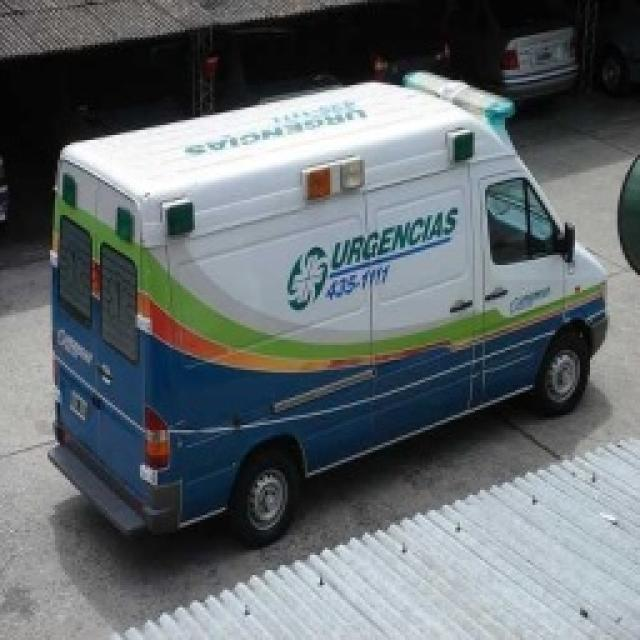emergency-vehicle: (52, 67, 612, 559)
